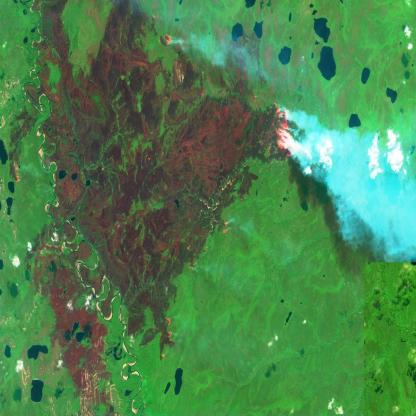fire: (270, 94, 299, 168), (158, 311, 176, 362), (156, 27, 174, 52), (217, 212, 233, 240), (10, 156, 23, 187)
